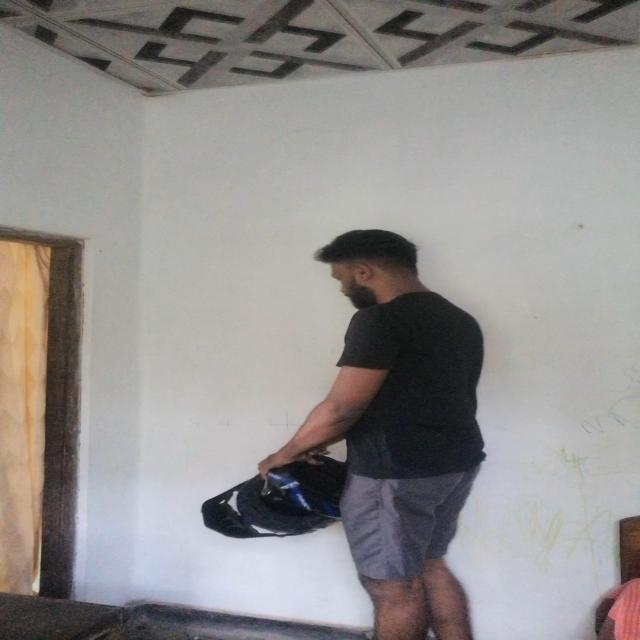Person: (195, 227, 523, 640)
